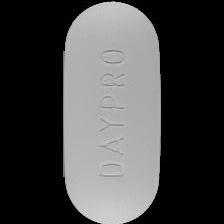59762-6002: (0, 0, 224, 224)
